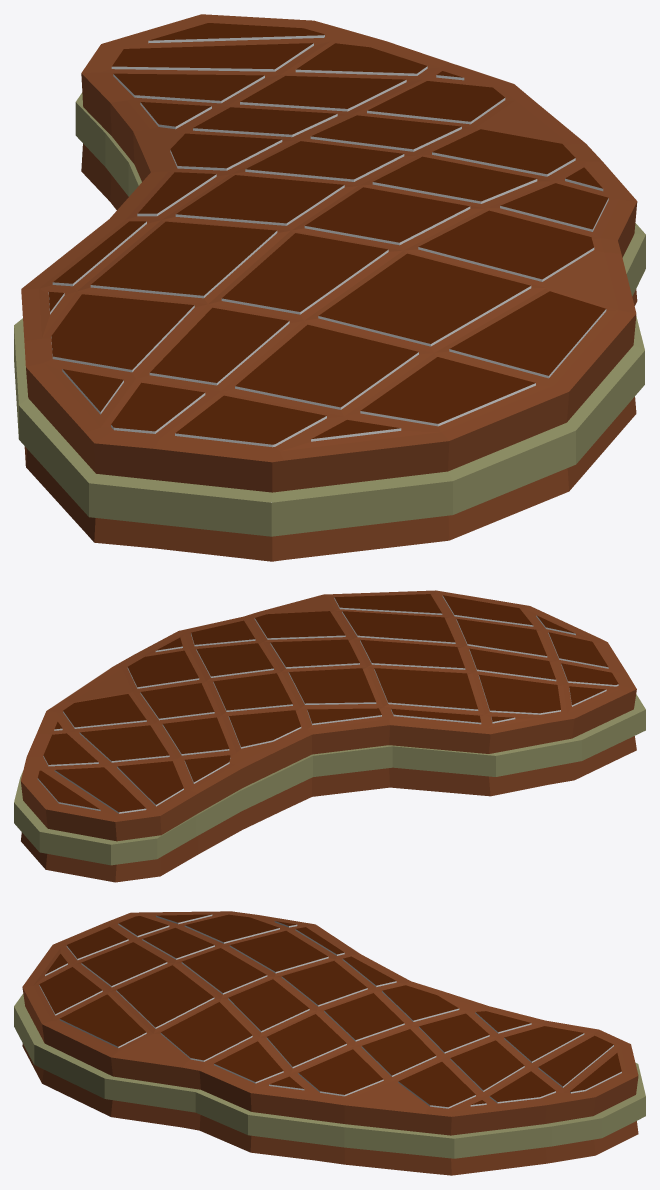
Rendered from Carne1.fbx.
The picture shows the model from 3 angles, top to bottom: view 1: azimuth 30°, elevation 25°; view 2: azimuth 150°, elevation 25°; view 3: azimuth 270°, elevation 25°; orthographic projection. The views are drawn at different scales.
Parts seen in each view (by area): view 1: Carne1; view 2: Carne1; view 3: Carne1.
Part boxes in pixels (x1,y1,x2,y2): Carne1: [14, 14, 645, 561]; Carne1: [14, 590, 645, 882]; Carne1: [14, 911, 645, 1175].
Size of the model in its own units: 110 by 24 by 143.
